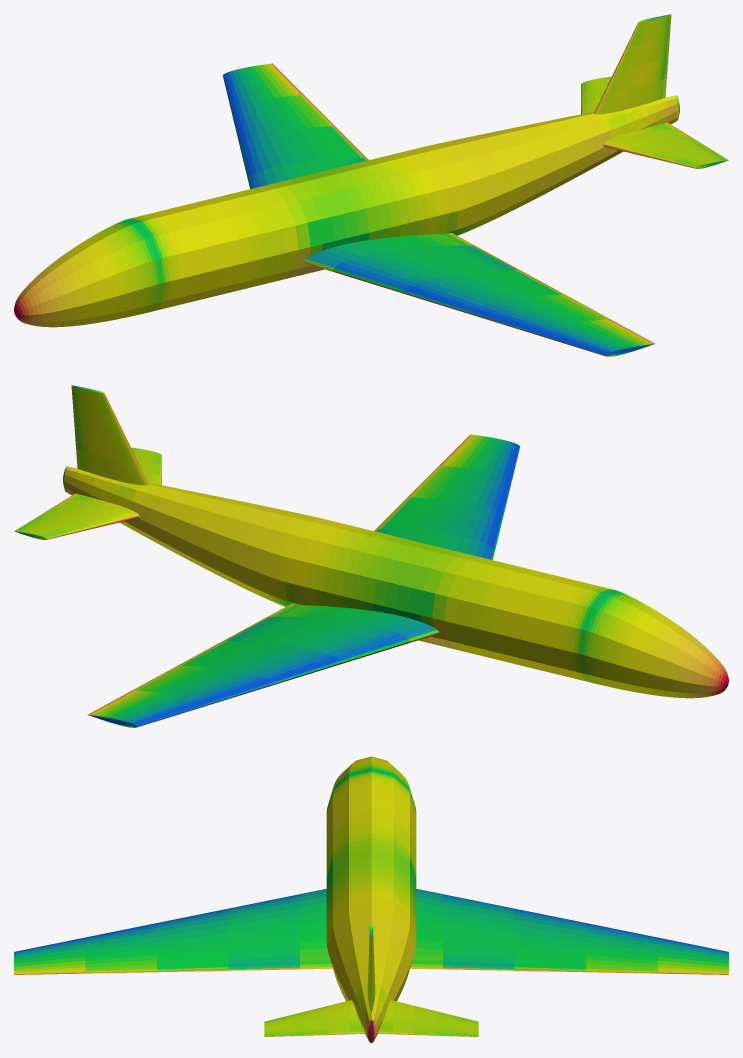
The model's file is paraview.glb.
3 views of the same model, one above another, from view 1: azimuth 30°, elevation 25°; view 2: azimuth 150°, elevation 25°; view 3: azimuth 270°, elevation 25° (orthographic). The views are drawn at different scales.
Visible parts, largest first — view 1: Shape_IndexedFaceSet.001; view 2: Shape_IndexedFaceSet.001; view 3: Shape_IndexedFaceSet.001.
Part boxes in pixels (left/top/right/bottom): Shape_IndexedFaceSet.001: left=14, top=14, right=728, bottom=356; Shape_IndexedFaceSet.001: left=14, top=385, right=728, bottom=727; Shape_IndexedFaceSet.001: left=14, top=756, right=728, bottom=1043.
Bounding box in the file's own units: 40 × 9.5 × 40.
